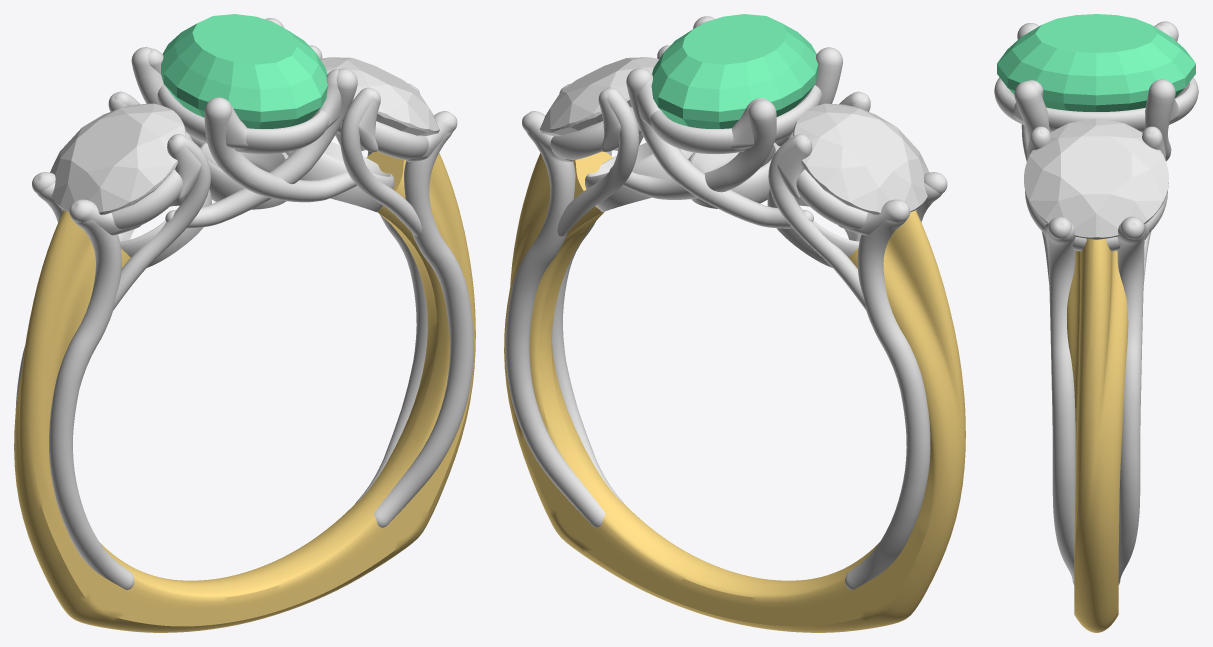
Rendered from BlaineV5new2_blender.glb.
The picture shows the model from 3 angles, left to right: view 1: azimuth 30°, elevation 25°; view 2: azimuth 150°, elevation 25°; view 3: azimuth 270°, elevation 25°; orthographic projection. The views are drawn at different scales.
Visible parts, largest first — view 1: V5 Blaine PT for 3d model, V5 Blaine YG for 3d model, Blaine garnet for 3d model, Blaine dia for 3d model.001, Blaine dia for 3d model; view 2: V5 Blaine PT for 3d model, V5 Blaine YG for 3d model, Blaine garnet for 3d model, Blaine dia for 3d model.001, Blaine dia for 3d model; view 3: V5 Blaine PT for 3d model, V5 Blaine YG for 3d model, Blaine garnet for 3d model, Blaine dia for 3d model.
Boxes of the visible parts, x1,y1,x2,y2 form: V5 Blaine PT for 3d model: (15,18,473,589); V5 Blaine YG for 3d model: (14,151,475,632); Blaine garnet for 3d model: (161,14,327,128); Blaine dia for 3d model.001: (50,103,185,214); Blaine dia for 3d model: (320,57,439,150); V5 Blaine PT for 3d model: (505,16,947,589); V5 Blaine YG for 3d model: (504,151,965,632); Blaine garnet for 3d model: (651,14,818,128); Blaine dia for 3d model.001: (793,103,929,214); Blaine dia for 3d model: (539,57,659,150); V5 Blaine PT for 3d model: (994,21,1198,584); V5 Blaine YG for 3d model: (1067,238,1128,632); Blaine garnet for 3d model: (997,14,1195,111); Blaine dia for 3d model: (1024,119,1168,239).
Bounding box in the file's own units: 20.5 × 25.08 × 8.3.
